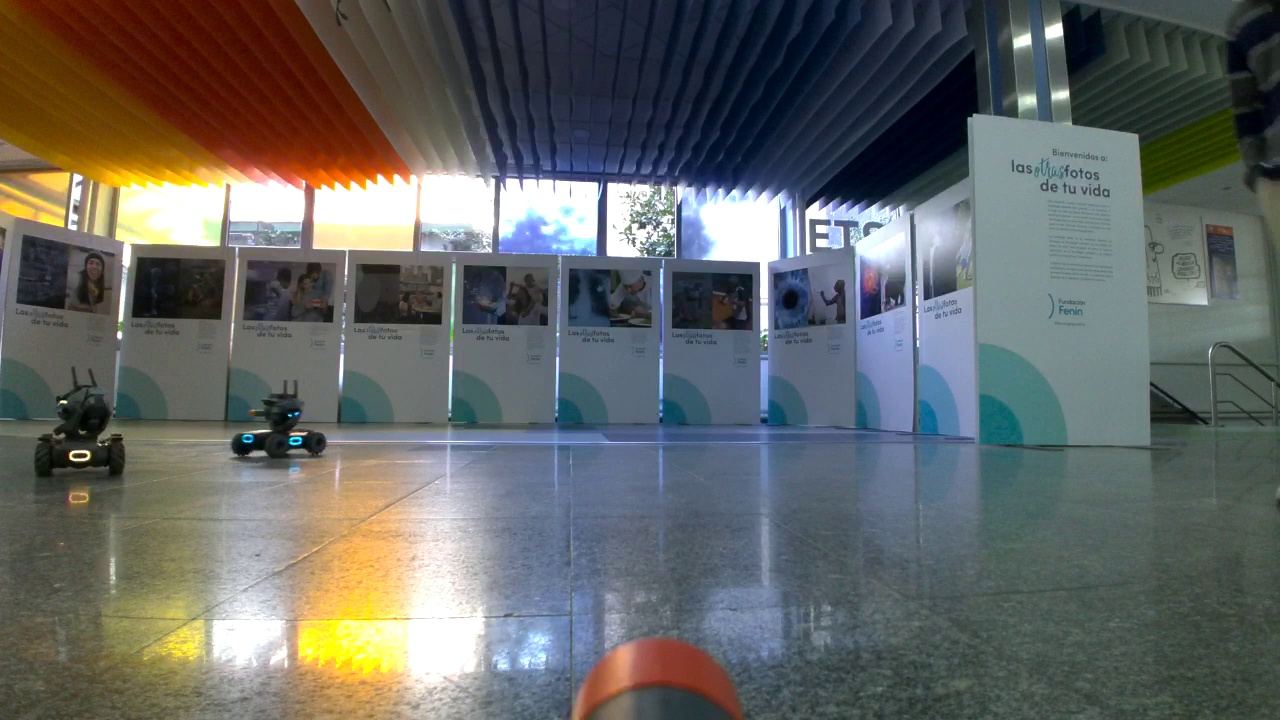robot: (36, 386, 128, 473), (233, 393, 327, 461)
